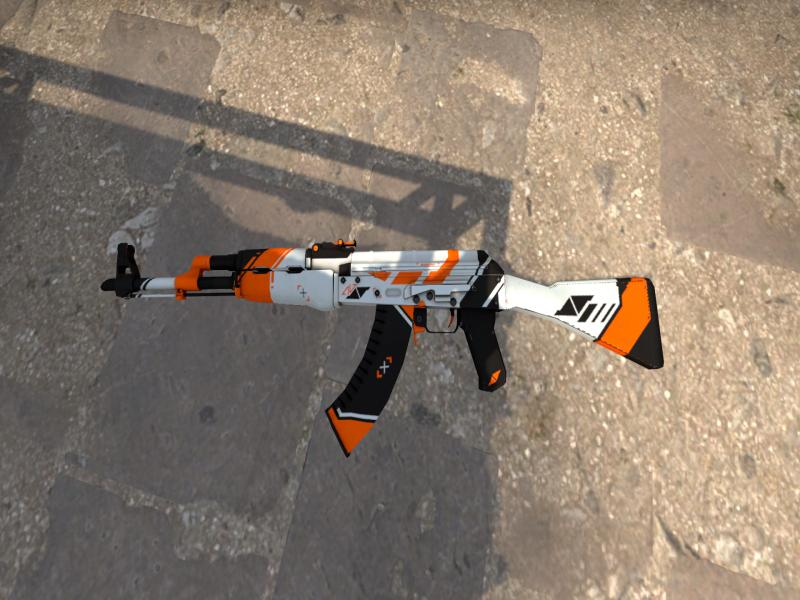AK47: (102, 241, 663, 452)
